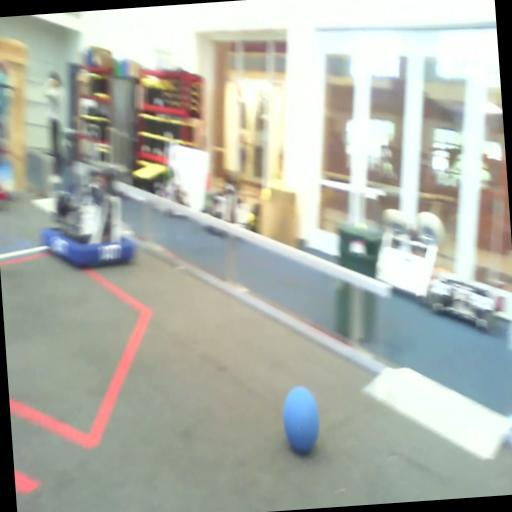robot: (42, 152, 139, 278)
